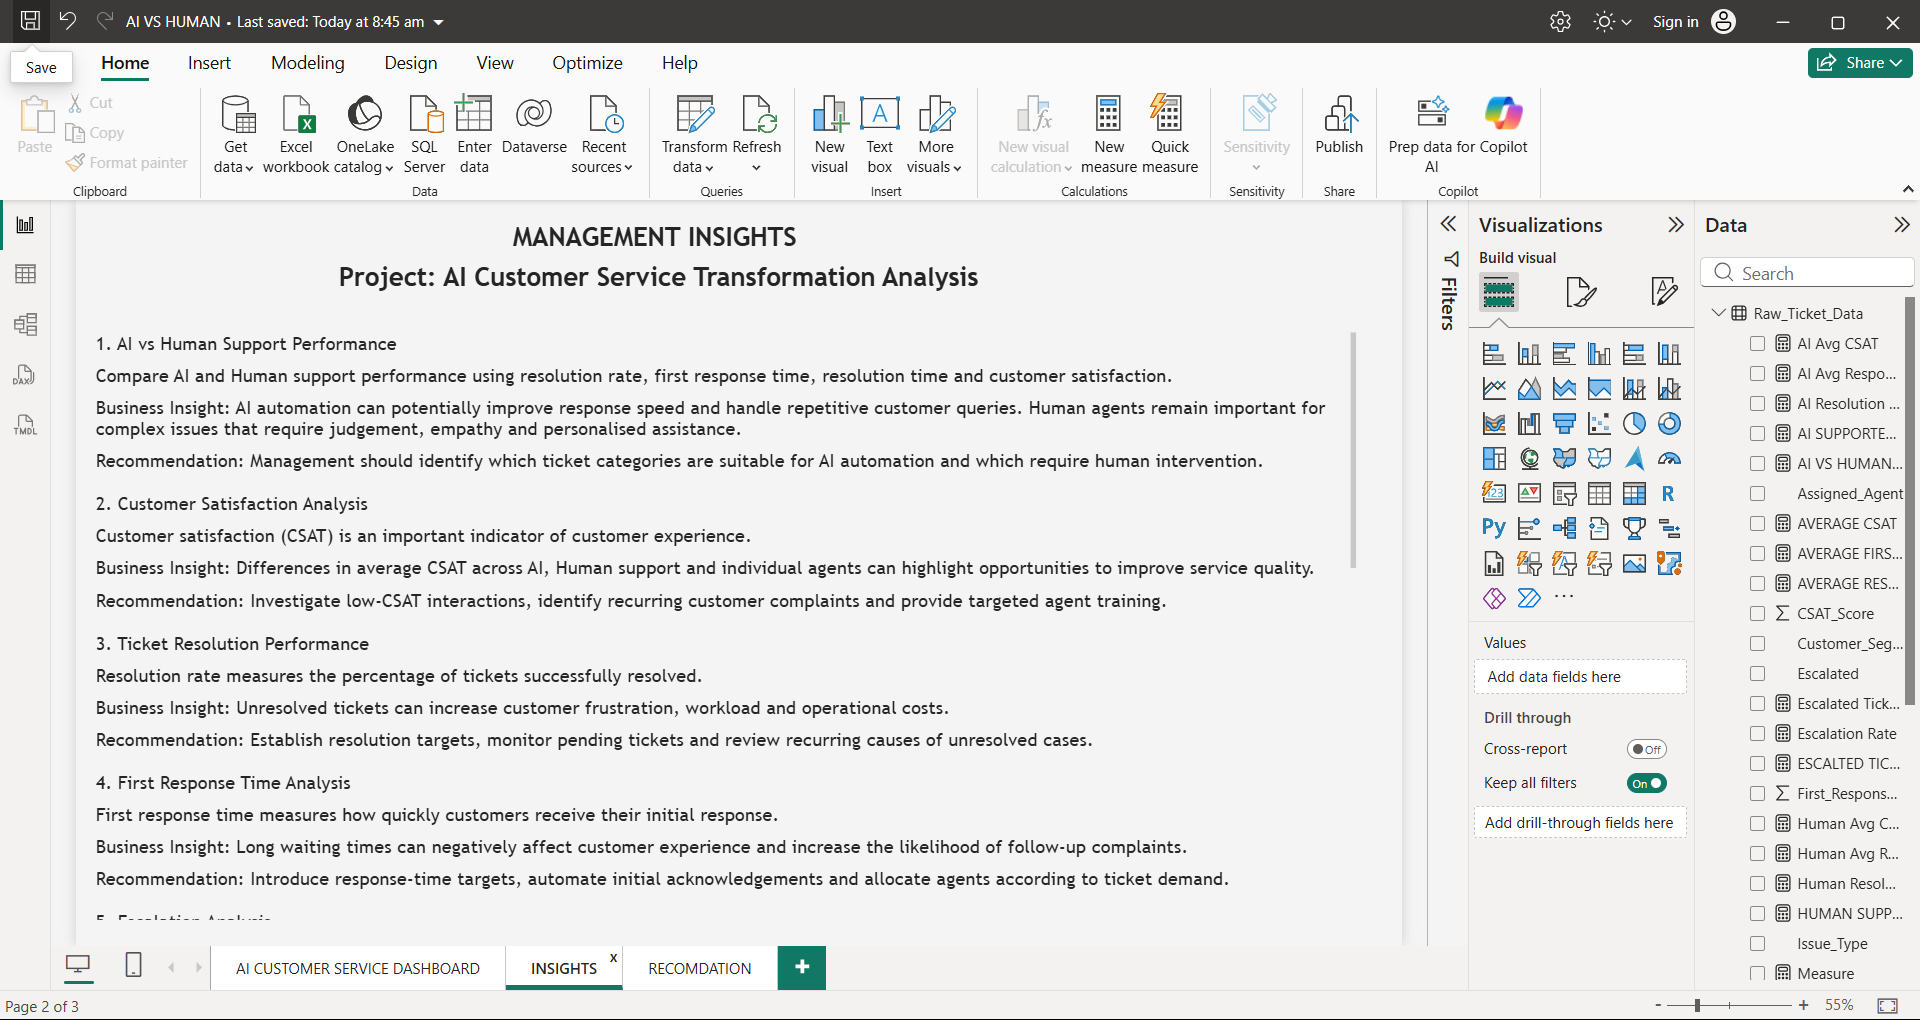

The dashboard page shown, as its layout file describes it:
{"tool":"powerbi","page":{"name":"INSIGHTS","canvas":[1920,1080],"ordinal":1},"visuals":[{"type":"textbox","box":[10.9,191.8,1842.2,850.5],"z":0},{"type":"textbox","box":[10.9,30.8,1664.9,105],"z":1000}]}

Visuals, with their boxes on the page's 1920x1080 design canvas (x1, y1, x2, y2). These are canvas units, not pixel positions in the 1920x1020 screenshot, which may show the page scaled, cropped or inside an application window:
textbox: pyautogui.locateOnScreen(11, 192, 1853, 1042)
textbox: pyautogui.locateOnScreen(11, 31, 1676, 136)
